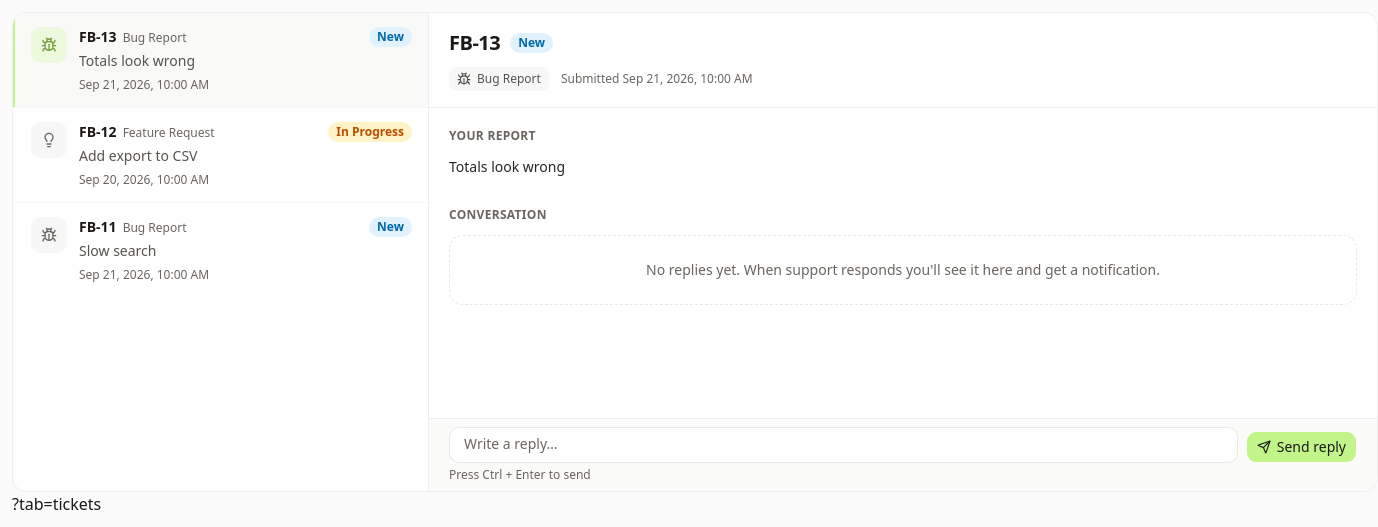
Scenario: FeedbackTicketInbox on a wide screen › does not carry a half-written reply over to another ticket
Expected: the heading "FB-13" is shown, x1=449 y1=29 x2=500 y2=57
Click the button with aria-label "Open ticket FB-12": click(49, 140) x1=13 y1=108 x2=428 y2=202
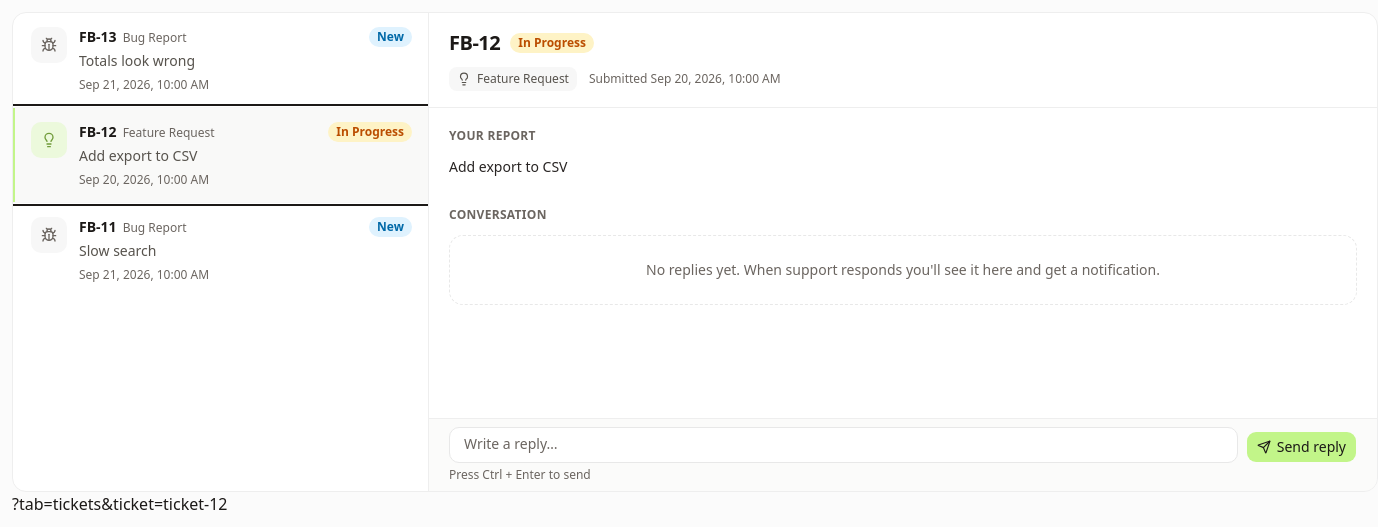
Result: the heading "FB-12" is shown at x1=449 y1=29 x2=500 y2=57
Click the button with aria-label "Open ticket FB-13": click(49, 45) x1=13 y1=13 x2=428 y2=107
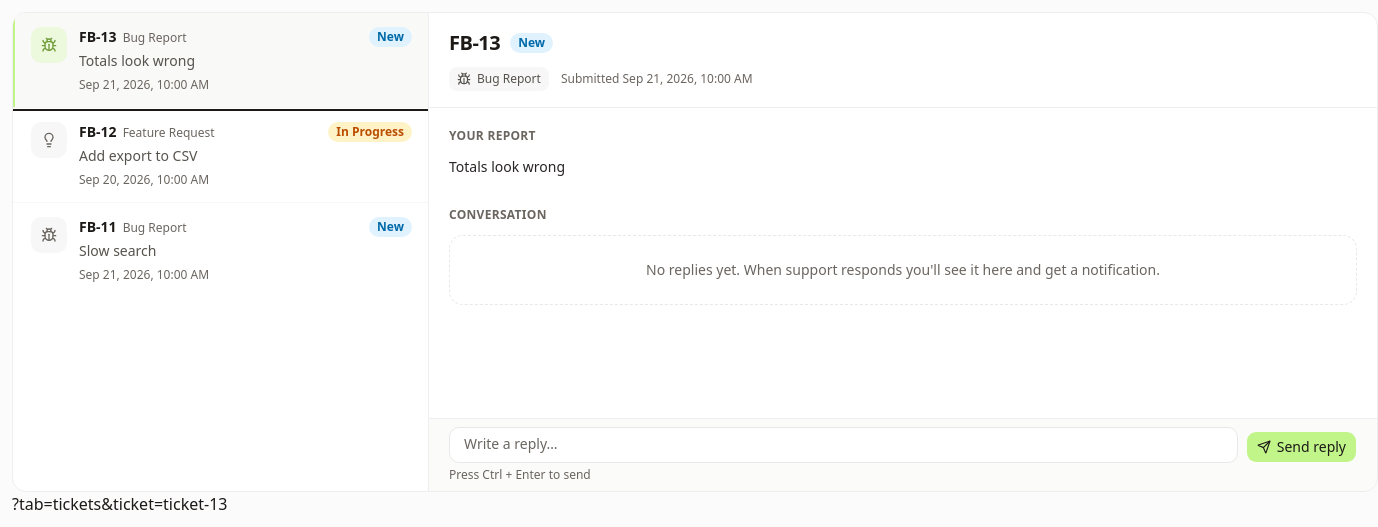
Result: the heading "FB-13" is shown at x1=449 y1=29 x2=500 y2=57
In the text box named "Reply to this ticket": (843, 445) x1=449 y1=427 x2=1238 y2=463, type "Draft for the first ticket"
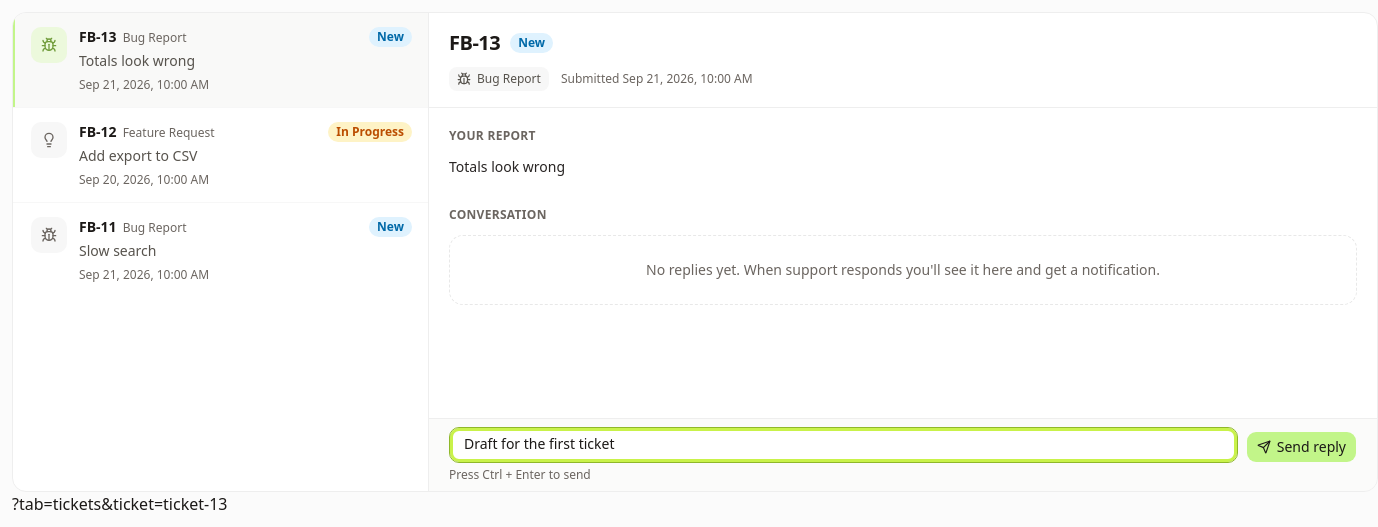
Click the button with aria-label "Open ticket FB-12": click(49, 140) x1=13 y1=108 x2=428 y2=202
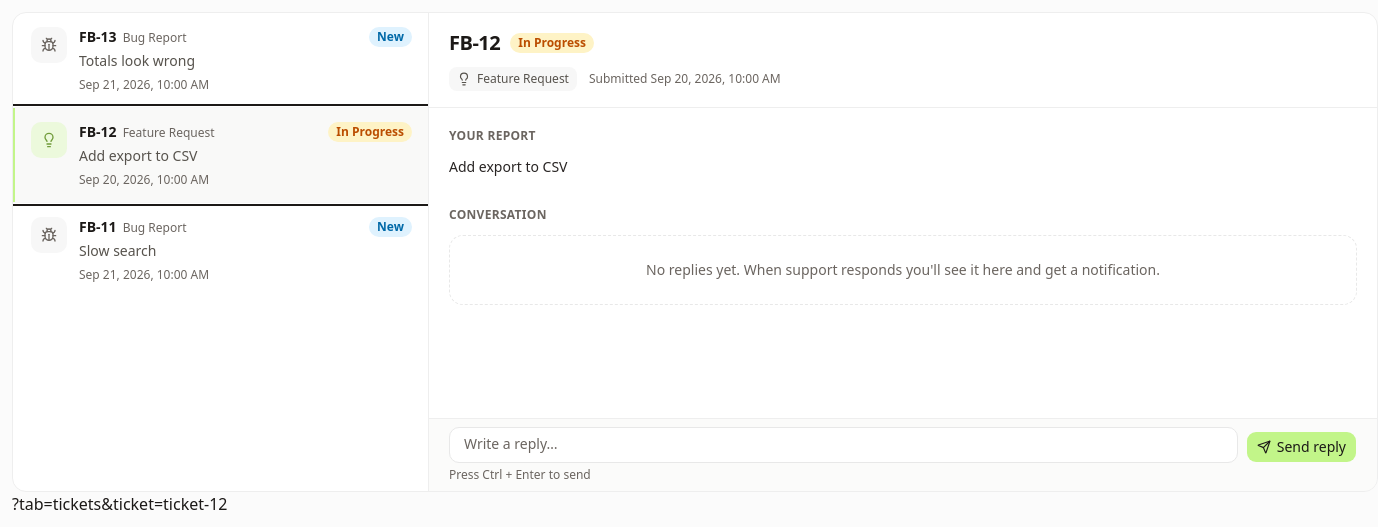
Result: the heading "FB-12" is shown at x1=449 y1=29 x2=500 y2=57
Result: the text box named "Reply to this ticket" is empty at x1=449 y1=427 x2=1238 y2=463
